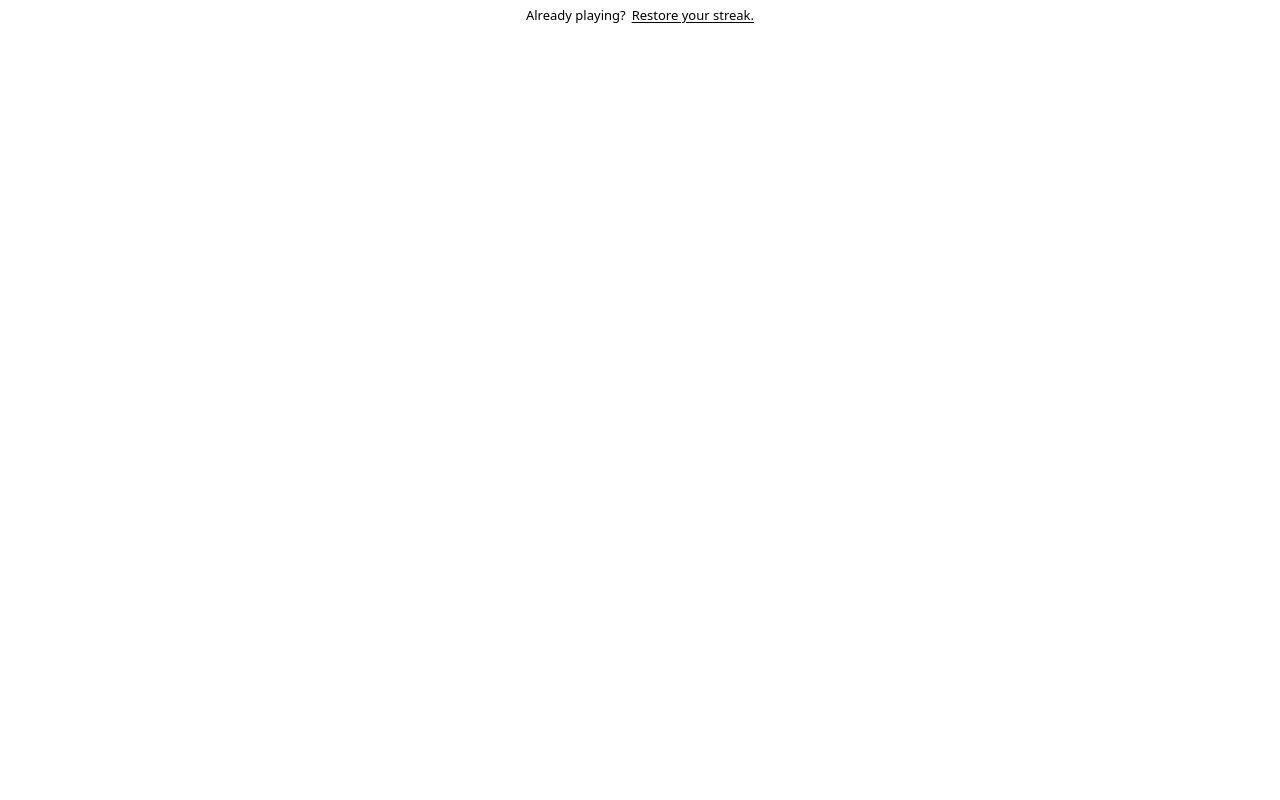
Test: not-recognized state opens the existing capture › restores a known address through the same path, with the same response
Check: the element with test id "daily-recognition" shows "Already playing?", box [526,6,626,24]
Click the button with test id "daily-restore-open".
click(693, 16)  # box [632,8,754,24]
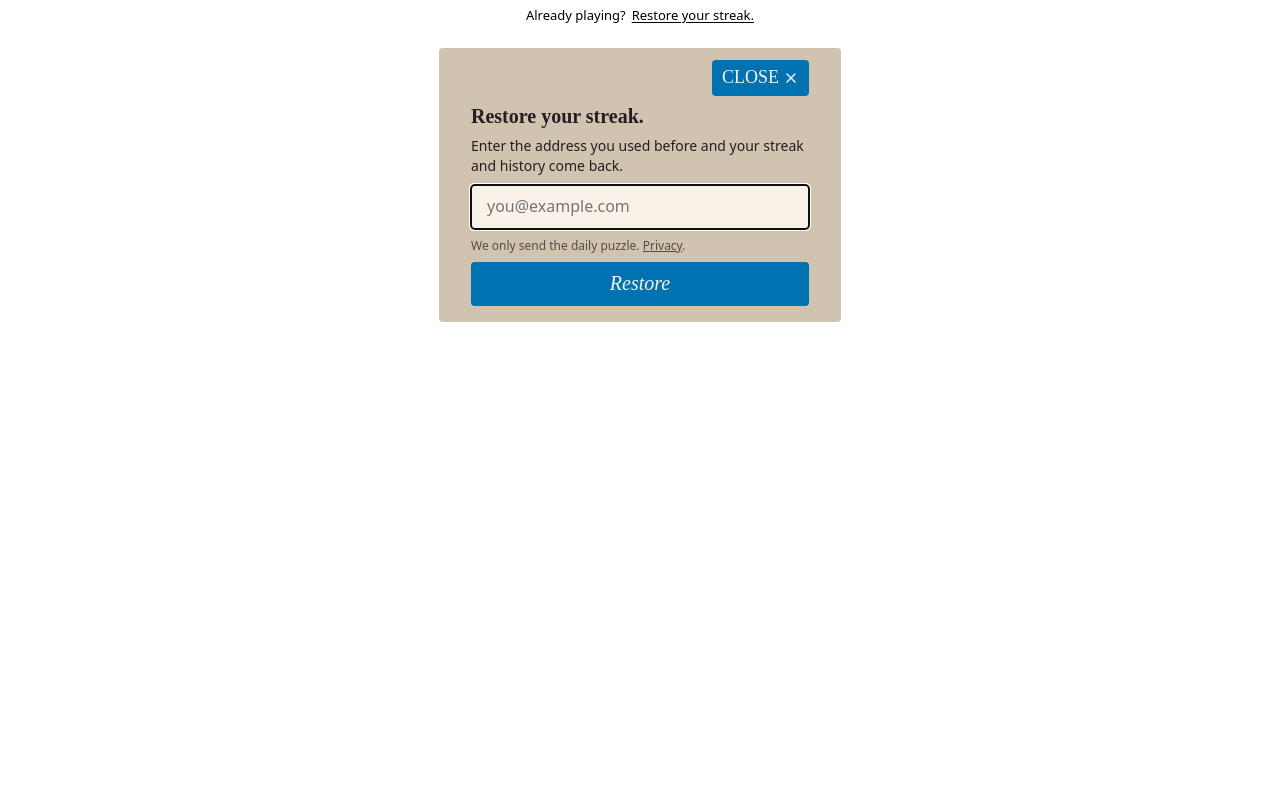
Check: the heading "Restore your streak." is shown, box [471,105,644,127]
Type "player@example.com" into the field named "Email address".
click(640, 207); type("player@example.com")  # box [471,185,809,229]
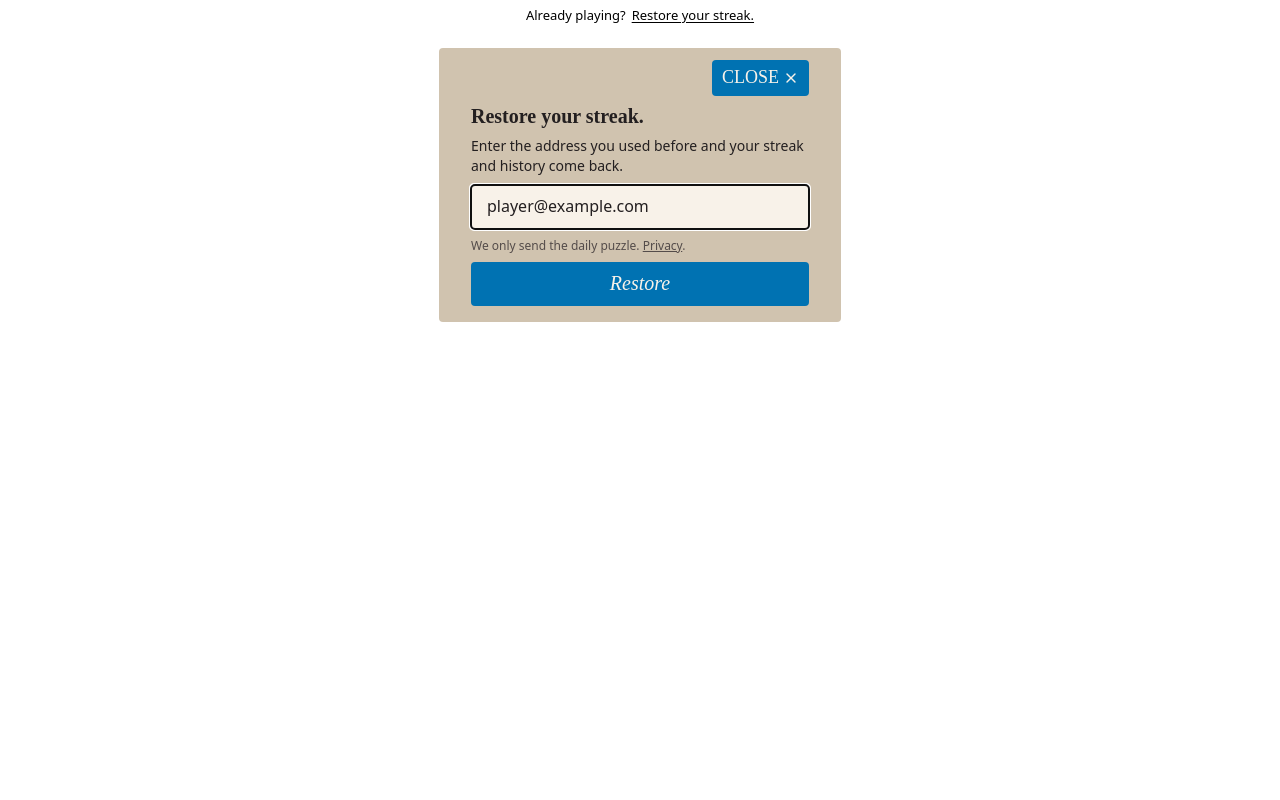
Click the button "Restore".
click(640, 284)  # box [471,262,809,306]
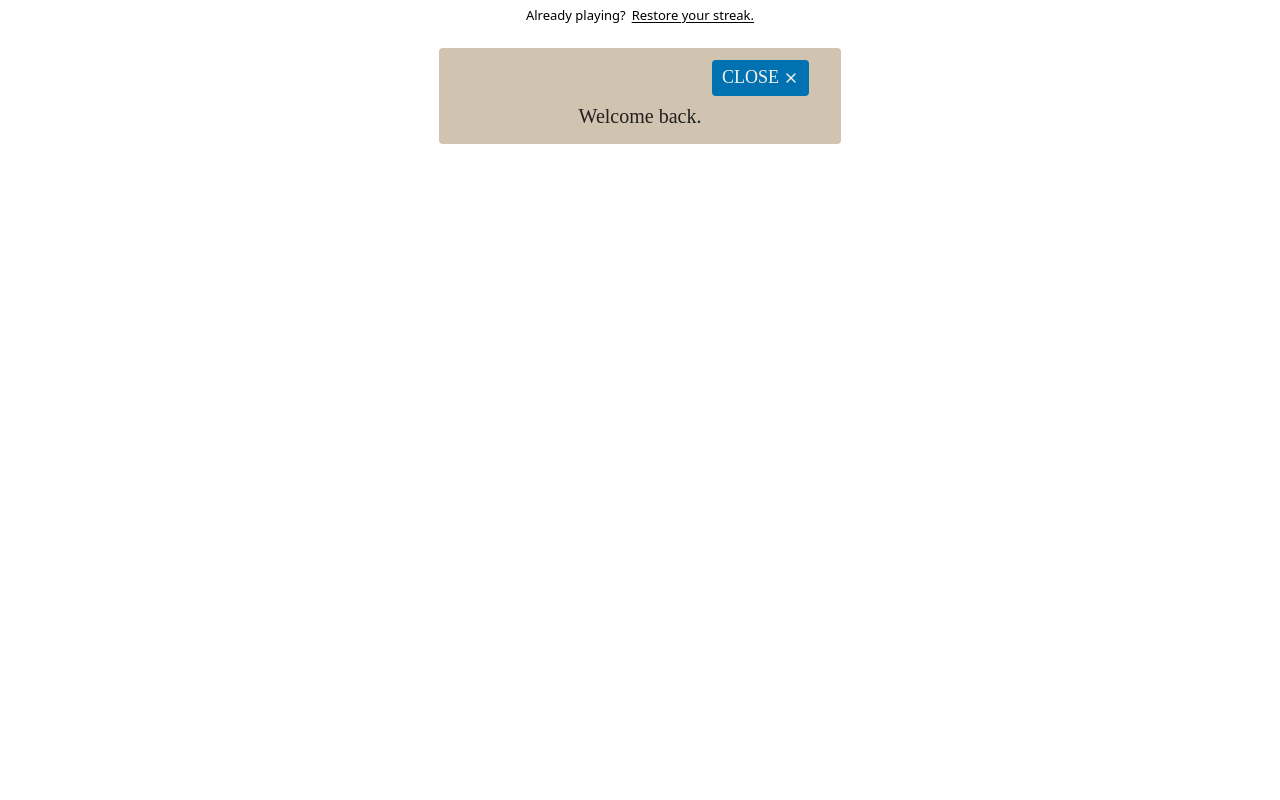
Check: the text "Welcome back." is shown, box [579,105,701,127]
